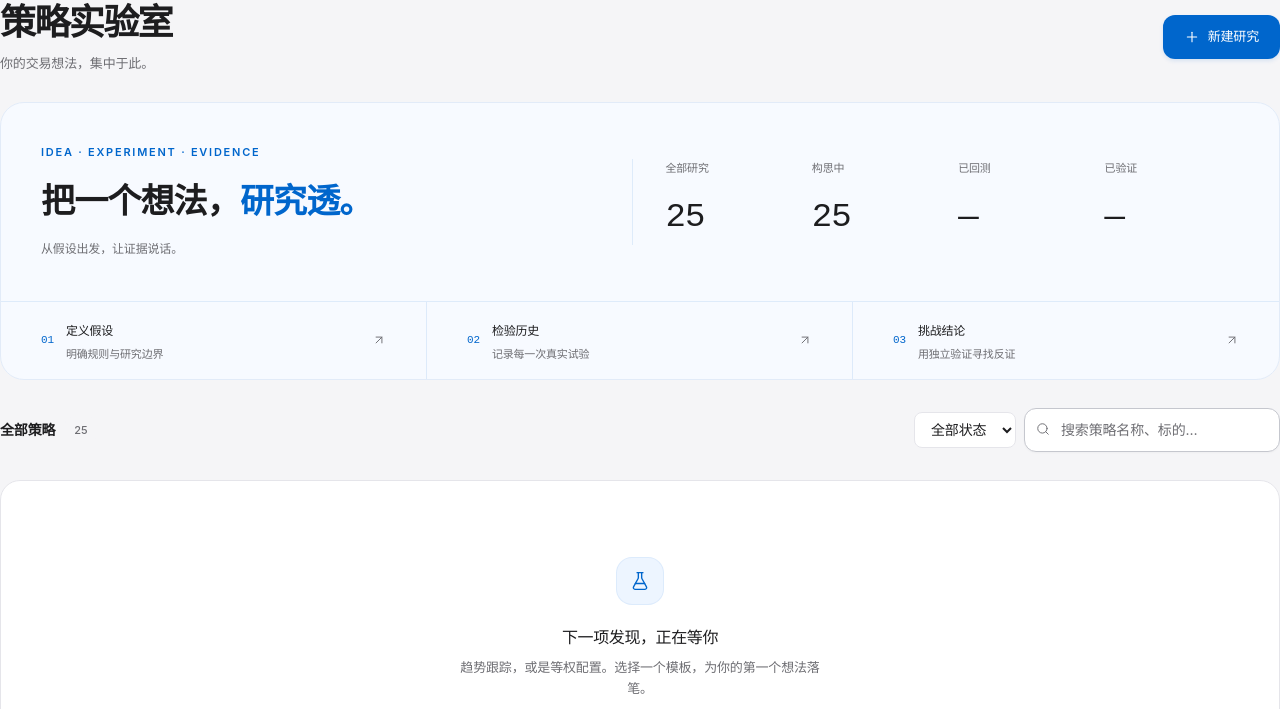
Test case: StrategyCollection pagination › clears filters from the no-match state
Expected: the text "下一项发现，正在等你" is shown, [562,625,718,649]
Type "zzz" into the field labelled "搜索策略" at (1152, 430), box [1024,408,1279,452]
(page scrolled)
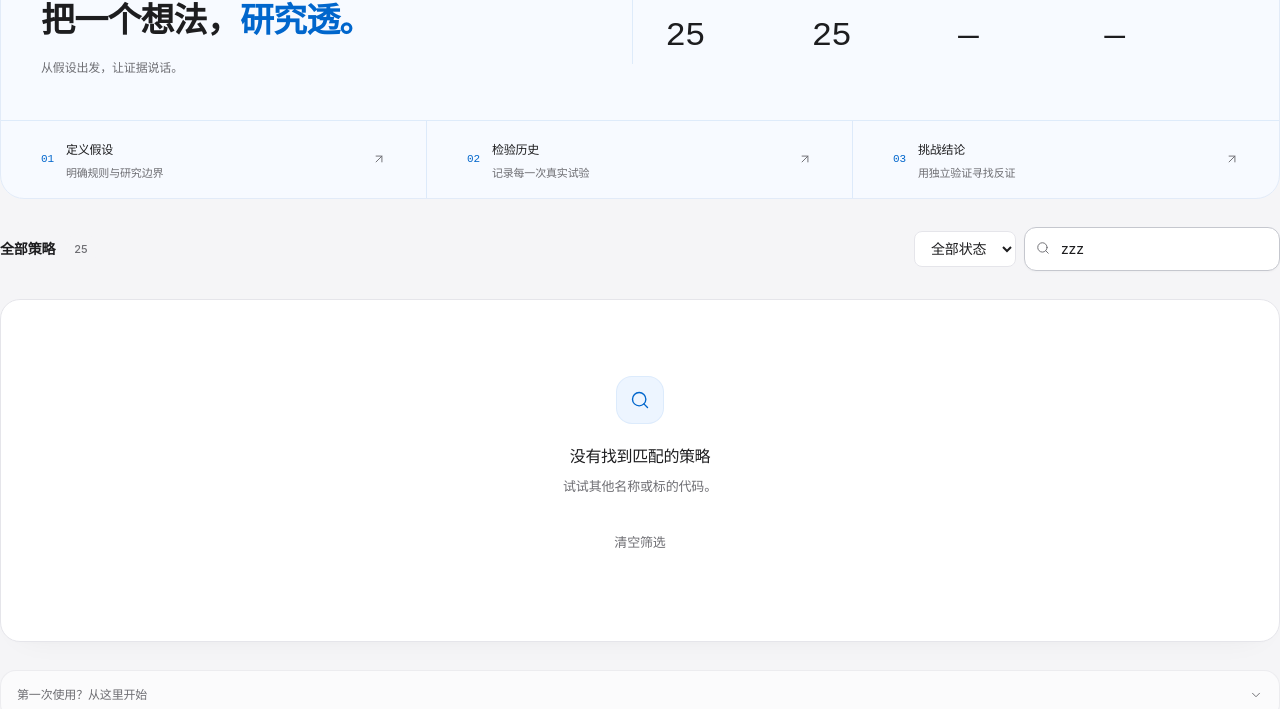
Result: the text "没有找到匹配的策略" is shown at [570,444,710,468]
Click the button "清空筛选" at (640, 543), box [594,521,686,565]
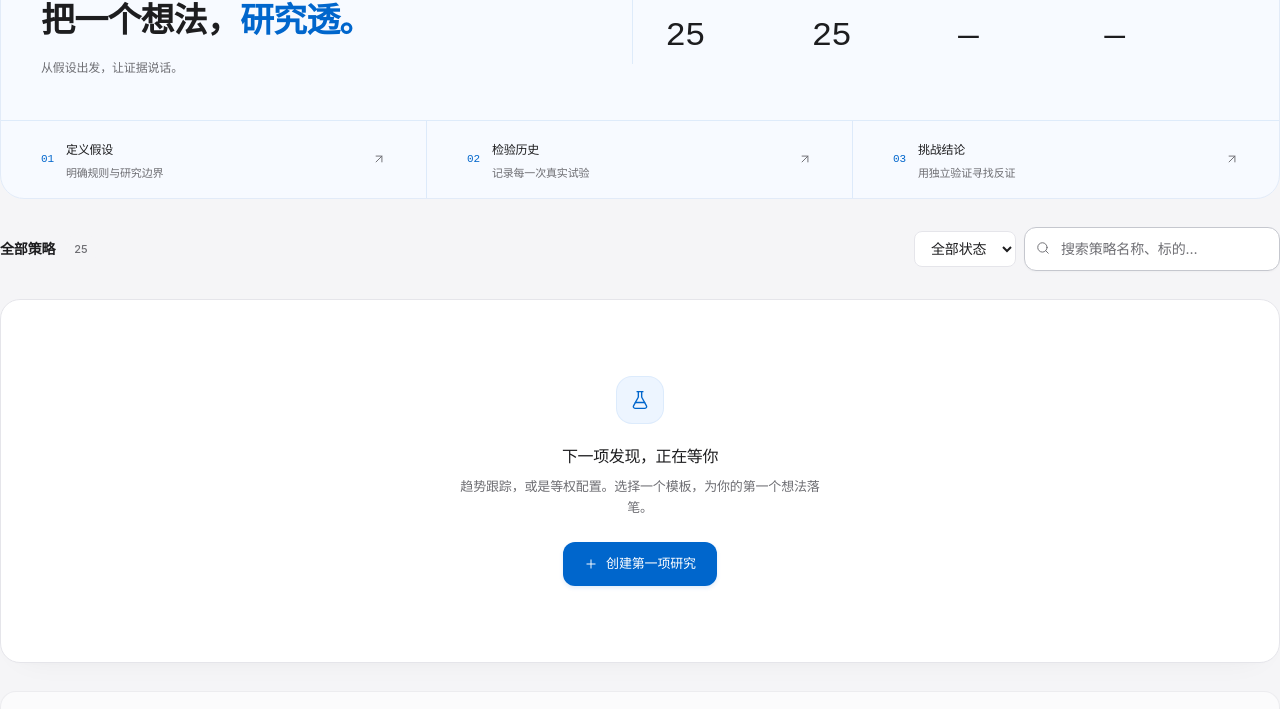
Result: the text "下一项发现，正在等你" is shown at [562,444,718,468]
